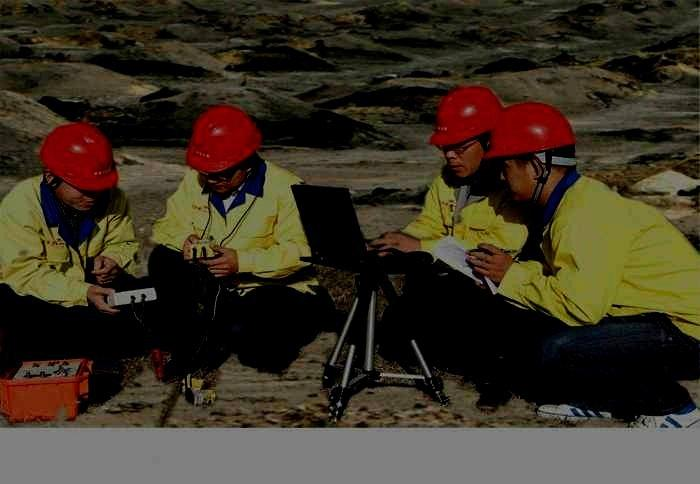helmet: (479, 100, 578, 201), (425, 83, 507, 178), (38, 122, 119, 211), (184, 103, 262, 193)
